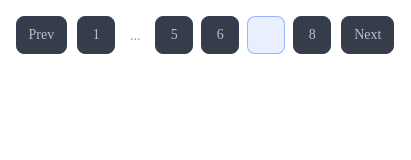
Scenario: Pagination › Actions › should switch to the first page
The image size is (411, 160).
Click the button named "First page": (96, 35) [77,16,115,54]
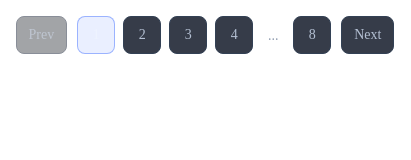
Check: the button named "Current page" reads "1", box [77,16,115,54]
